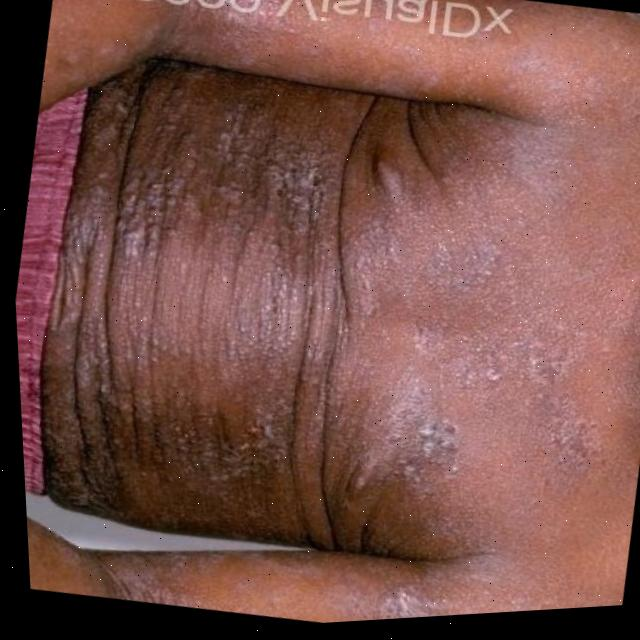Eczema: (32, 25, 618, 637)
